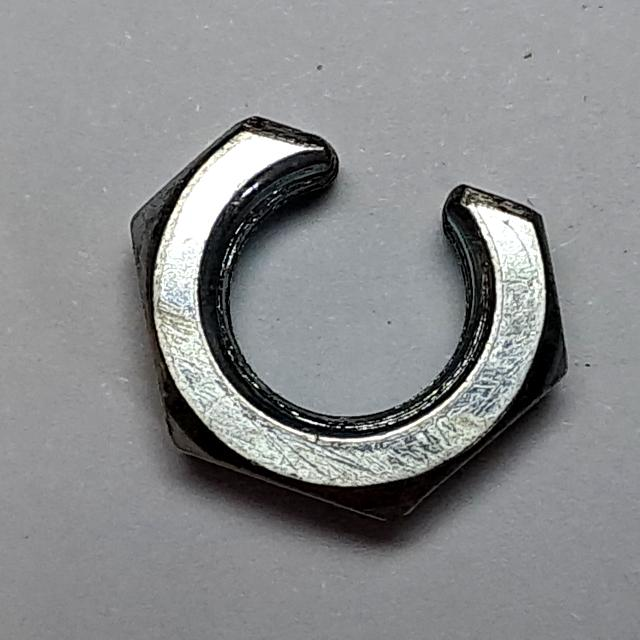Fracture: (117, 106, 589, 545)
